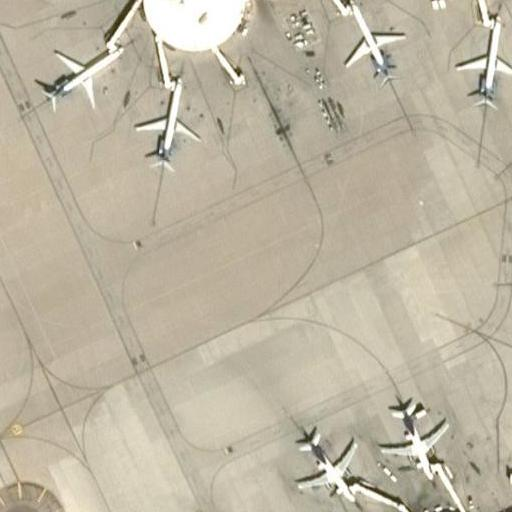Aircraft: (131, 78, 202, 174), (34, 39, 125, 111), (451, 5, 512, 106), (374, 396, 450, 476), (291, 422, 363, 500), (335, 0, 404, 81), (279, 508, 366, 512)
